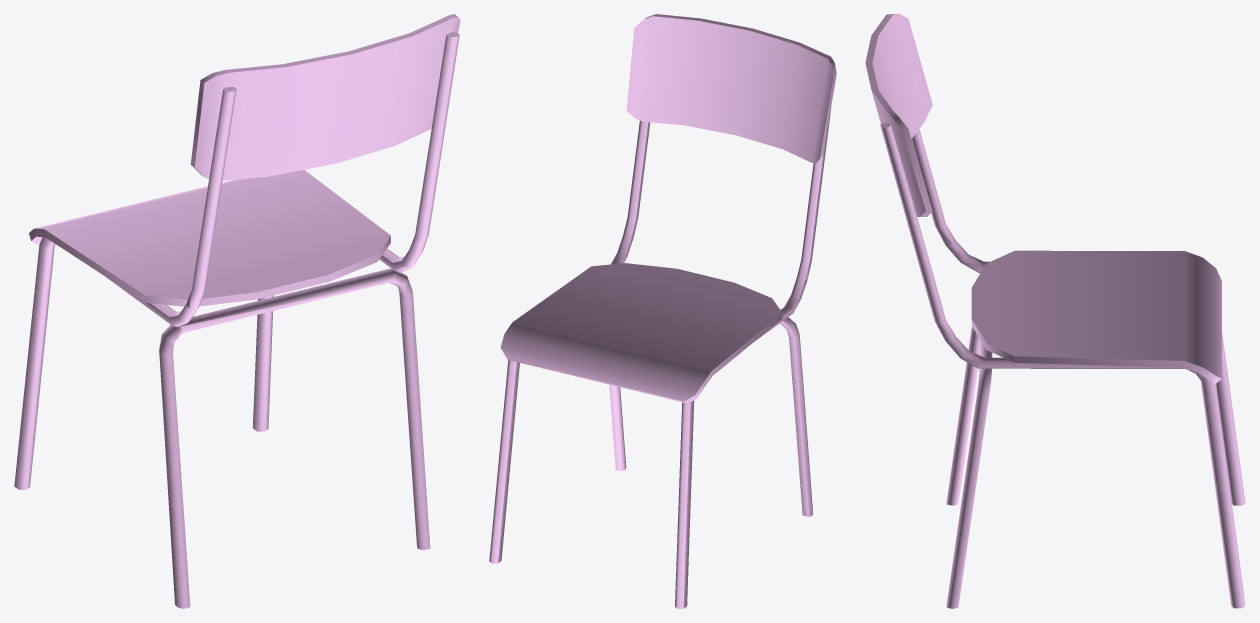
File: 5_material14sedia.fbx
The picture shows the model from 3 angles, left to right: view 1: azimuth 30°, elevation 25°; view 2: azimuth 150°, elevation 25°; view 3: azimuth 270°, elevation 25°; orthographic projection. The views are drawn at different scales.
Parts seen in each view (by area): view 1: 5_material14_sedia; view 2: 5_material14_sedia; view 3: 5_material14_sedia.
Boxes of the visible parts, bbox=[...] form: 5_material14_sedia: bbox=[14, 14, 460, 608]; 5_material14_sedia: bbox=[489, 14, 836, 608]; 5_material14_sedia: bbox=[865, 14, 1245, 608].
Bounding box in the file's own units: 292 × 606 × 425.
